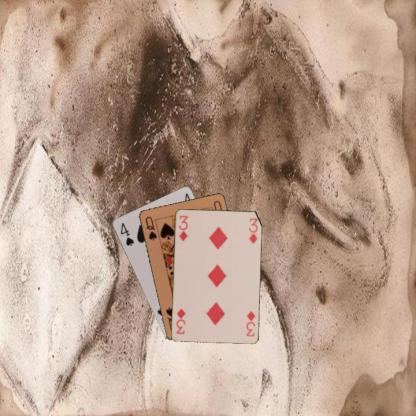3d: (176, 213, 189, 242), (243, 308, 256, 337)
4s: (117, 220, 135, 247)
Qs: (142, 214, 158, 241)
